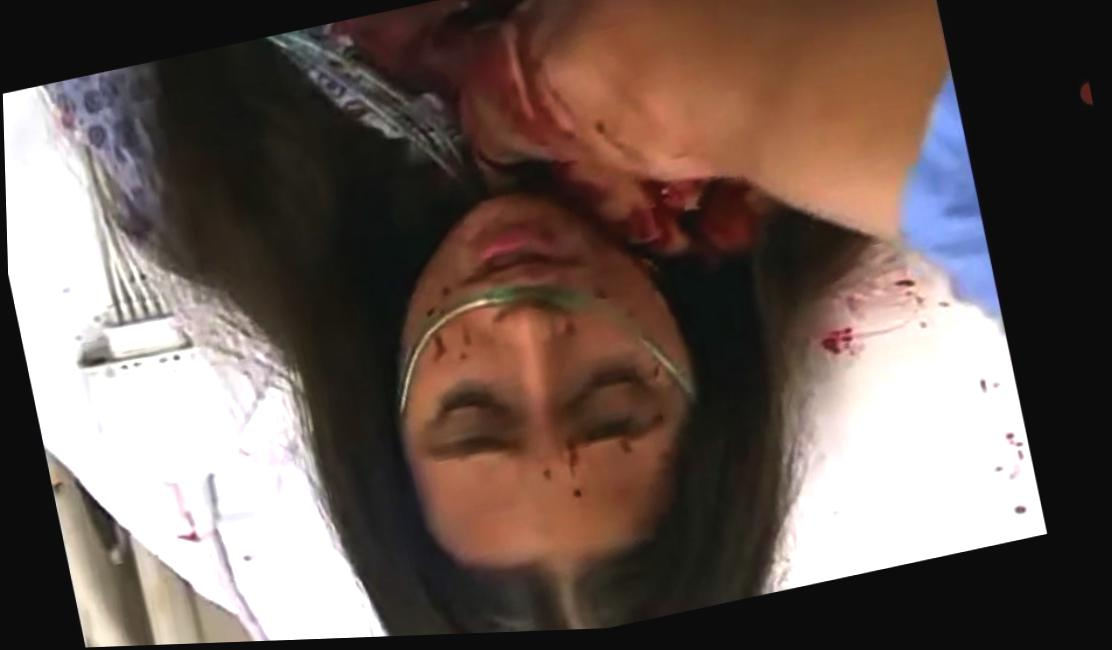Fire: (462, 3, 779, 270), (418, 195, 652, 323), (539, 394, 689, 503), (409, 304, 486, 359)
